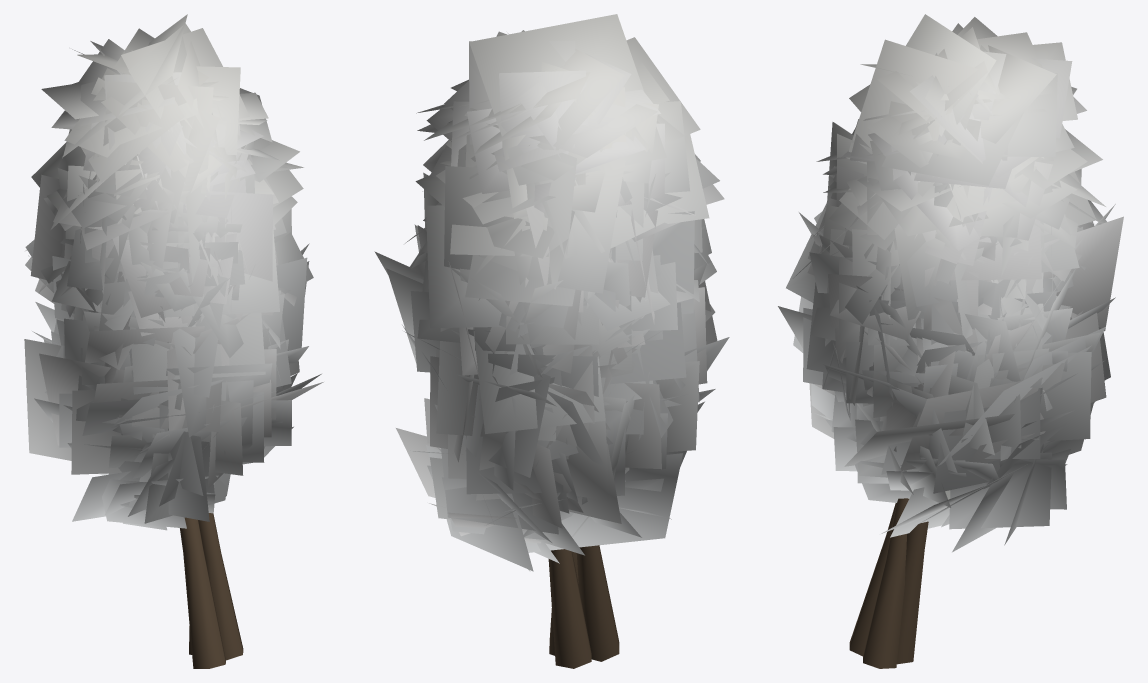
3 renders of one model, left to right at view 1: azimuth 30°, elevation 25°; view 2: azimuth 150°, elevation 25°; view 3: azimuth 270°, elevation 25°, orthographic. The views are drawn at different scales.
Parts seen in each view (by area): view 1: crown, trunk; view 2: crown, trunk; view 3: crown, trunk.
Part boxes in pixels (x1=…): crown: x1=24, y1=14, x2=323, y2=530; trunk: x1=180, y1=513, x2=243, y2=668; crown: x1=374, y1=14, x2=729, y2=571; trunk: x1=548, y1=545, x2=619, y2=668; crown: x1=778, y1=14, x2=1123, y2=552; trunk: x1=849, y1=498, x2=928, y2=668.
Bounding box in the file's own units: 6.01 × 12.34 × 6.51.
